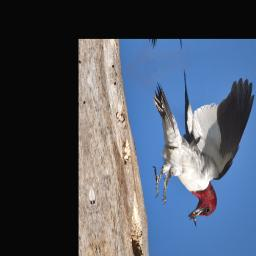Woodpecker: (142, 55, 256, 232)
